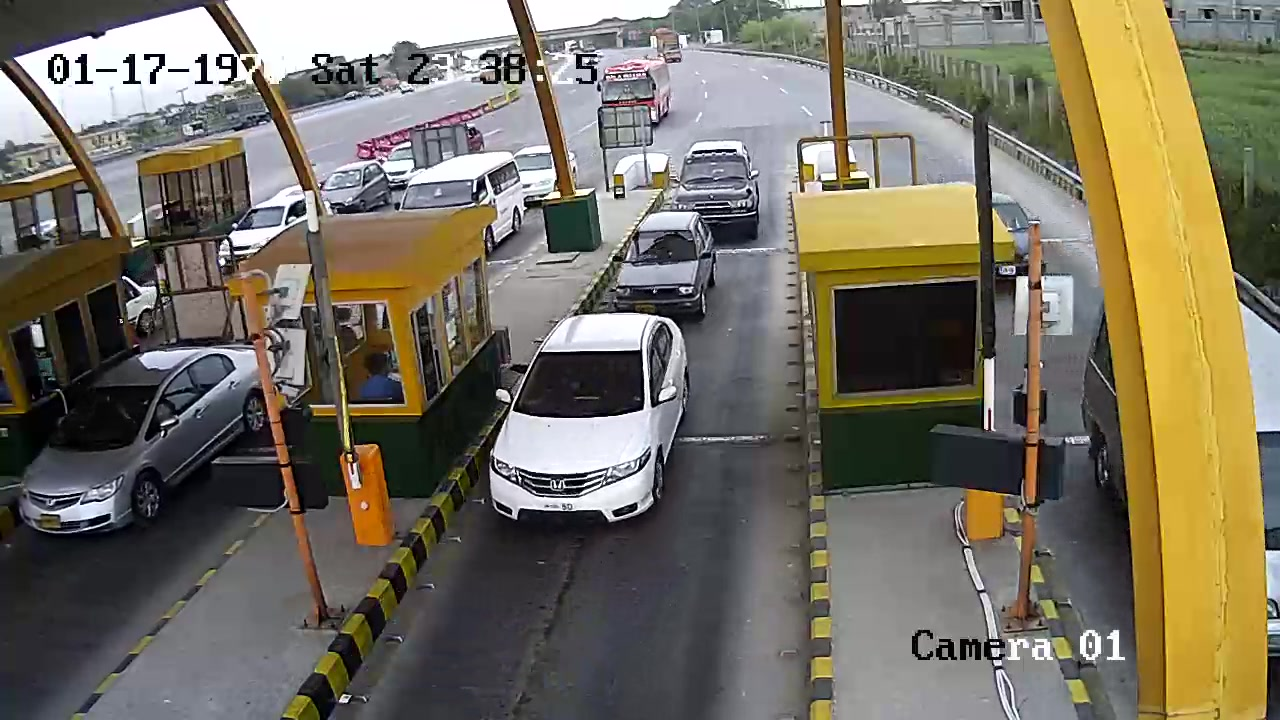F1: (478, 310, 715, 530), (604, 210, 732, 323)
